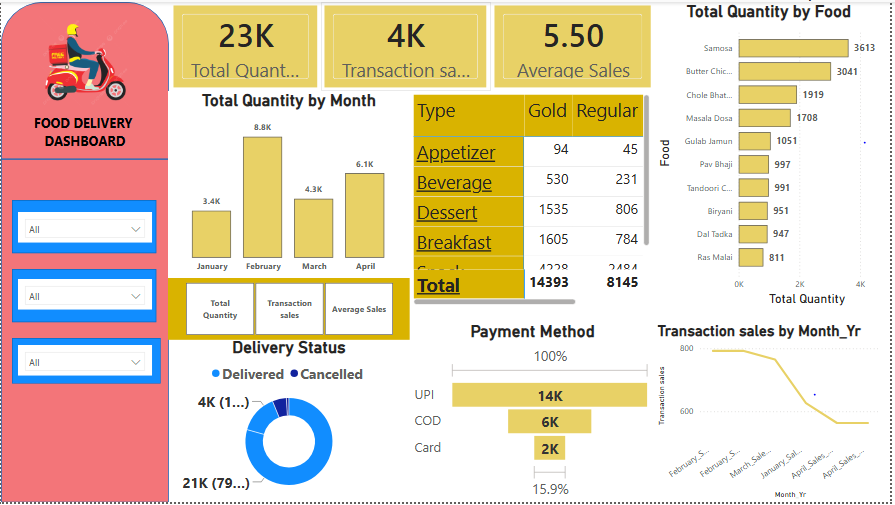

What the dashboard file says about the page in this screenshot:
{"tool":"powerbi","page":{"name":"Page 1","canvas":[1280,720],"ordinal":0},"visuals":[{"type":"shape","box":[0,0,241.6,720.5],"z":0},{"type":"shape","box":[15.3,284.4,207.9,76.6],"z":1000},{"type":"image","box":[32.7,17.4,176.3,139.3],"z":2000},{"type":"textbox","box":[0,156.7,241.6,69.7],"z":3000},{"type":"shape","box":[0,209,243.8,34.8],"z":4000},{"type":"cardVisual","fields":{"Data":["Sales Data.Total Quantity"]},"box":[243.8,0,217.7,128.4],"z":5000},{"type":"cardVisual","fields":{"Data":["Sales Data.Transaction sales"]},"box":[461.5,0,243.8,128.4],"z":6000},{"type":"cardVisual","fields":{"Data":["Sales Data.Average Sales"]},"box":[705.3,0,235.1,128.4],"z":7000},{"type":"columnChart","fields":{"Category":["Sales Data.orderDate.Variation.Date Hierarchy.Year","Sales Data.orderDate.Variation.Date Hierarchy.Quarter","Sales Data.orderDate.Variation.Date Hierarchy.Month","Sales Data.orderDate.Variation.Date Hierarchy.Day"],"Y":["Sales Data.Total Quantity"]},"box":[241.2,127.8,348.3,270],"z":8000},{"type":"pivotTable","fields":{"Columns":["Customer Details.member_Type"],"Rows":["Food_Details.Type"],"Values":["Sales Data.Total Quantity"]},"box":[589.5,127.8,350.4,313.3],"z":9000},{"type":"clusteredBarChart","fields":{"Category":["Food_Details.Food"],"Y":["Sales Data.Total Quantity"]},"box":[940.4,0,330.9,441.9],"z":10000},{"type":"donutChart","title":"Delivery Status","fields":{"Category":["Sales Data.deliver_status"],"Y":["Sales Data.Total Quantity","Sales Data.Transaction sales","Sales Data.Average Sales"]},"box":[241.2,484.4,348.3,235],"z":11000},{"type":"funnel","title":"Payment Method","fields":{"Category":["Sales Data.payment_method"],"Y":["Sales Data.Total Quantity"]},"box":[590,461,350,259],"z":12000},{"type":"lineChart","fields":{"Category":["Sales Data.Month_Yr"],"Y":["Sales Data.Transaction sales"]},"box":[940,461,331,259],"z":13000},{"type":"slicer","fields":{"Values":["Custome Calander.Month Name"]},"box":[24.1,301.9,192.5,43.8],"z":14000},{"type":"shape","box":[15.3,385.1,207.9,76.6],"z":15000},{"type":"shape","box":[15.3,483.6,214.4,65.6],"z":16000},{"type":"slicer","fields":{"Values":["Resturant_Details.Resturant_type"]},"box":[24.1,494.5,192.5,43.8],"z":17000},{"type":"slicer","fields":{"Values":["Customer Details.member_Type"]},"box":[24.1,398.2,192.5,43.8],"z":18000},{"type":"slicer","fields":{"Values":["Matrics.Matrics"]},"box":[241.2,397.8,348.3,88.6],"z":19000}]}

Visuals, with their boxes in screenshot pixels (x1, y1, x2, y2), scaled from the page's 1280x720 canvas onto the 895x505 screenshot:
shape: select_region(0, 0, 169, 504)
shape: select_region(11, 199, 156, 253)
image: select_region(23, 12, 146, 110)
textbox: select_region(0, 110, 169, 159)
shape: select_region(0, 147, 170, 171)
cardVisual - Sales Data.Total Quantity: select_region(170, 0, 323, 90)
cardVisual - Sales Data.Transaction sales: select_region(323, 0, 493, 90)
cardVisual - Sales Data.Average Sales: select_region(493, 0, 658, 90)
columnChart - Sales Data.orderDate.Variation.Date Hierarchy.Year x Sales Data.orderDate.Variation.Date Hierarchy.Quarter: select_region(169, 90, 412, 279)
pivotTable - Customer Details.member_Type x Food_Details.Type: select_region(412, 90, 657, 309)
clusteredBarChart - Food_Details.Food x Sales Data.Total Quantity: select_region(658, 0, 889, 310)
"Delivery Status" donutChart: select_region(169, 340, 412, 504)
"Payment Method" funnel: select_region(413, 323, 657, 504)
lineChart - Sales Data.Month_Yr x Sales Data.Transaction sales: select_region(657, 323, 889, 504)
slicer - Custome Calander.Month Name: select_region(17, 212, 151, 242)
shape: select_region(11, 270, 156, 324)
shape: select_region(11, 339, 161, 385)
slicer - Resturant_Details.Resturant_type: select_region(17, 347, 151, 378)
slicer - Customer Details.member_Type: select_region(17, 279, 151, 310)
slicer - Matrics.Matrics: select_region(169, 279, 412, 341)
